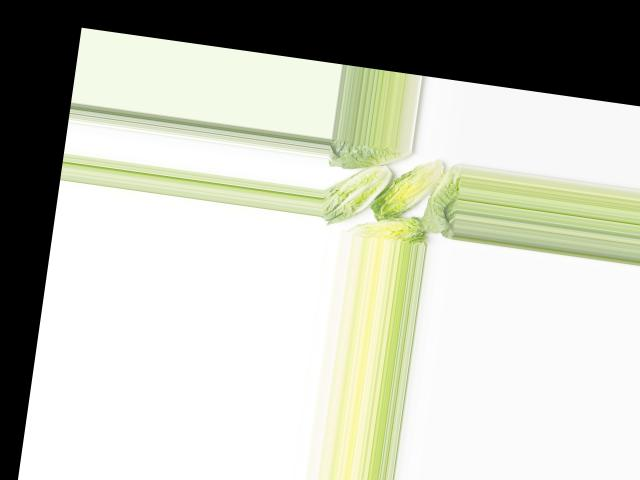lettuce: (417, 161, 463, 240)
